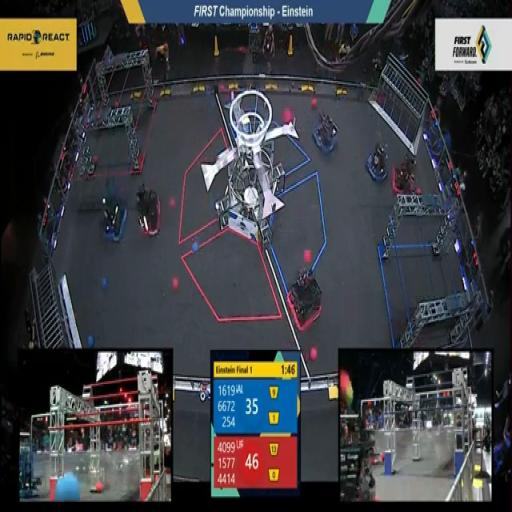robot: (286, 262, 323, 334), (100, 182, 127, 245), (135, 179, 162, 240), (311, 108, 340, 160), (390, 151, 418, 197), (365, 140, 389, 185)
